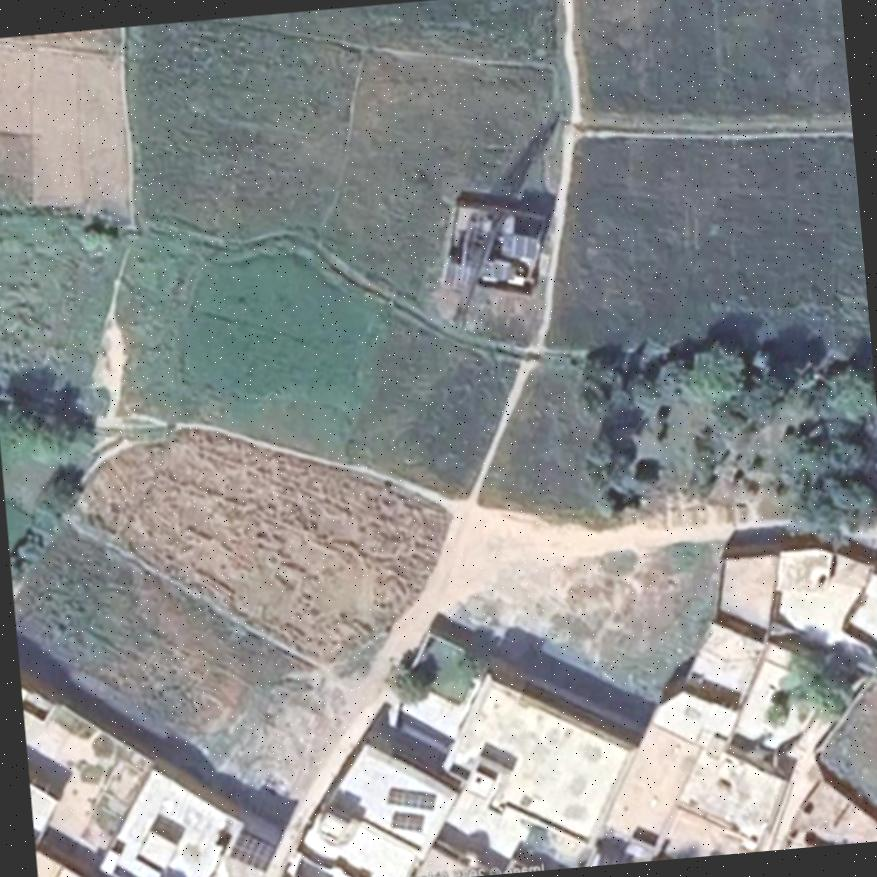Solarpanel: (226, 829, 278, 872), (387, 787, 433, 810), (392, 813, 422, 828)
